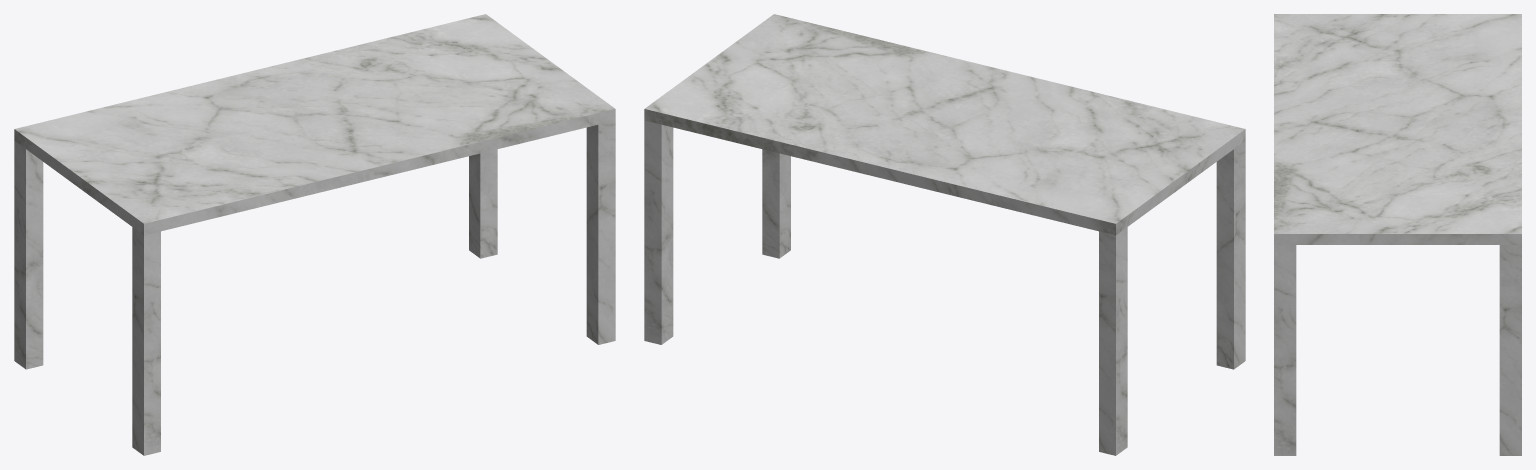
File: TablePolice.fbx
3 renders of one model, left to right at view 1: azimuth 30°, elevation 25°; view 2: azimuth 150°, elevation 25°; view 3: azimuth 270°, elevation 25°, orthographic. The views are drawn at different scales.
Parts seen in each view (by area): view 1: TablePolice; view 2: TablePolice; view 3: TablePolice.
Boxes of the visible parts, box(x1,y1,x2,y2) form: TablePolice: box(14, 14, 615, 455); TablePolice: box(644, 14, 1245, 455); TablePolice: box(1274, 14, 1521, 455).
Bounding box in the file's own units: 1.68 × 0.789 × 0.7987.
